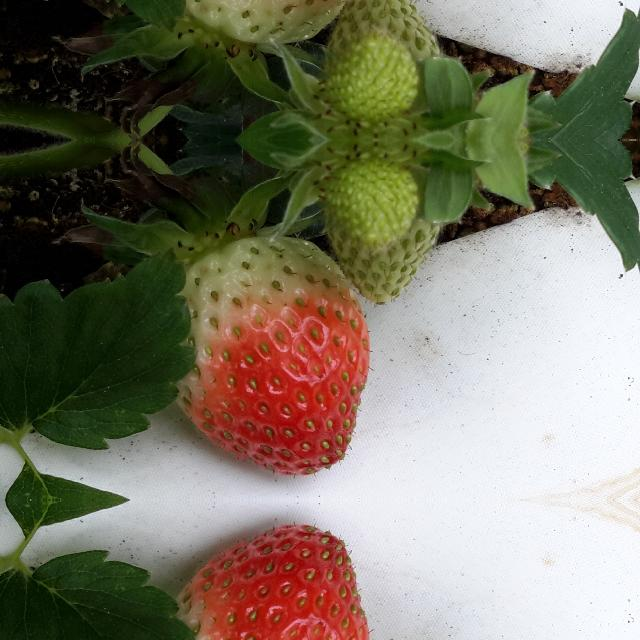Health_25: (322, 154, 446, 310), (322, 0, 446, 125)
Health_75: (174, 237, 370, 478), (174, 522, 370, 640)
